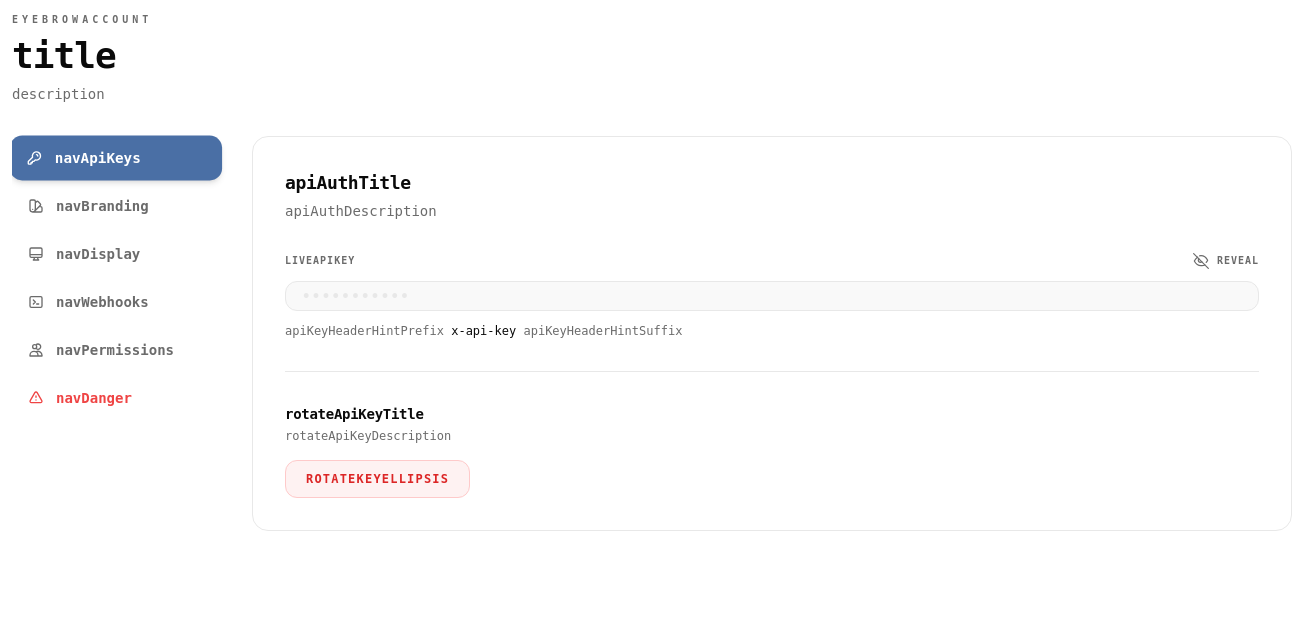
Test case: SettingsWidget › Tab navigation › switches to Webhooks panel on click
Click the tab "navWebhooks" at (116, 302), box [12,280,220,324]
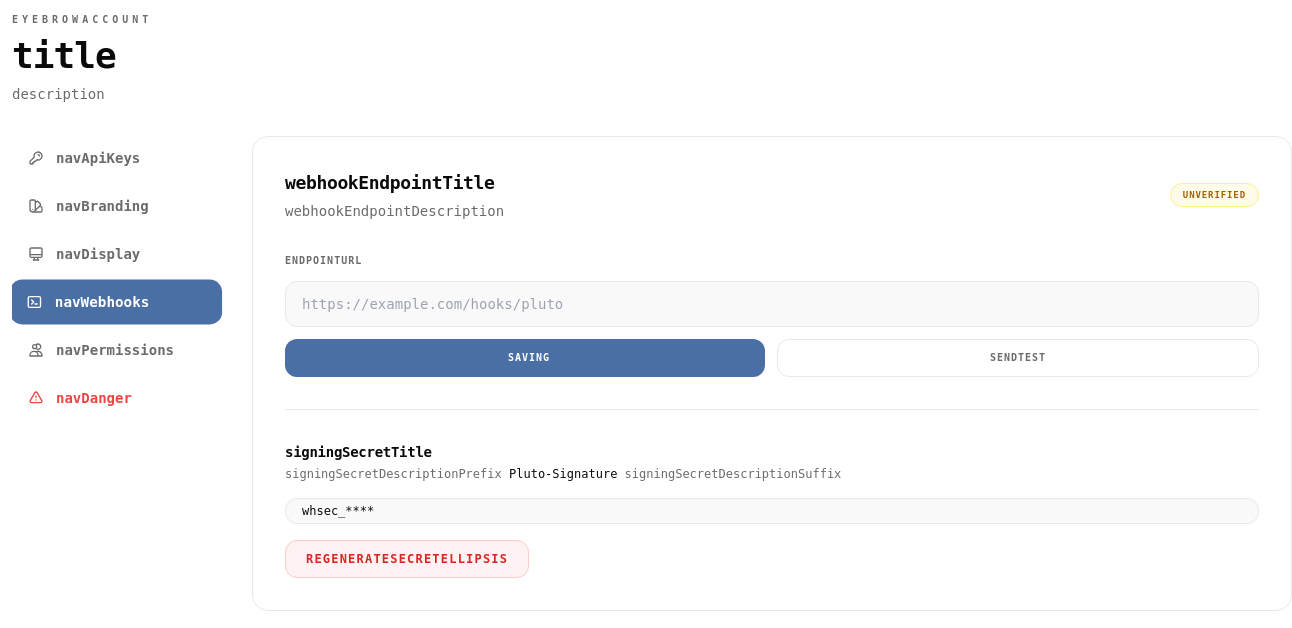
Expected: the heading "webhookEndpointTitle" is shown, [285,169,504,197]
